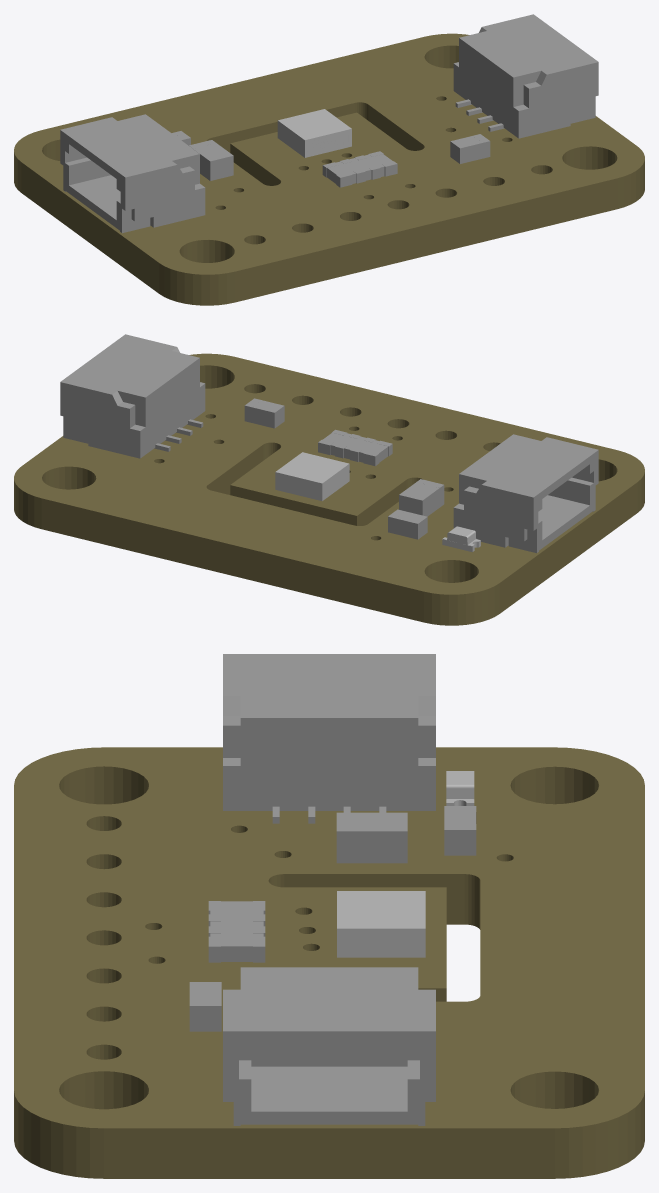
File: adafruit-2857-sht31d.glb
3 views of the same model, one above another, from view 1: azimuth 30°, elevation 25°; view 2: azimuth 150°, elevation 25°; view 3: azimuth 270°, elevation 25° (orthographic). The views are drawn at different scales.
Parts seen in each view (by area): view 1: colour 1, colour 2, colour 3; view 2: colour 1, colour 2, colour 3; view 3: colour 1, colour 2, colour 3.
Boxes of the visible parts, x1,y1,x2,y2 form: colour 1: [14, 33, 644, 305]; colour 2: [60, 14, 598, 233]; colour 3: [277, 109, 351, 157]; colour 1: [14, 353, 644, 625]; colour 2: [60, 334, 598, 553]; colour 3: [275, 452, 480, 552]; colour 1: [14, 747, 644, 1178]; colour 2: [189, 654, 476, 1125]; colour 3: [337, 771, 474, 957].
Bounding box in the file's own units: 0.0254 × 0.00453 × 0.0178.
